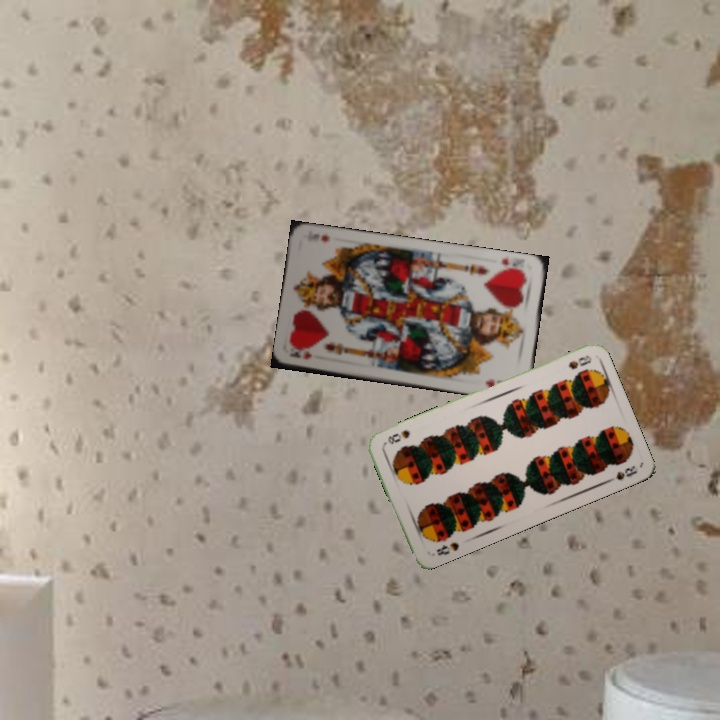HK: (497, 254, 528, 276), (287, 347, 314, 362)
S8: (564, 351, 594, 372), (432, 538, 461, 558)
